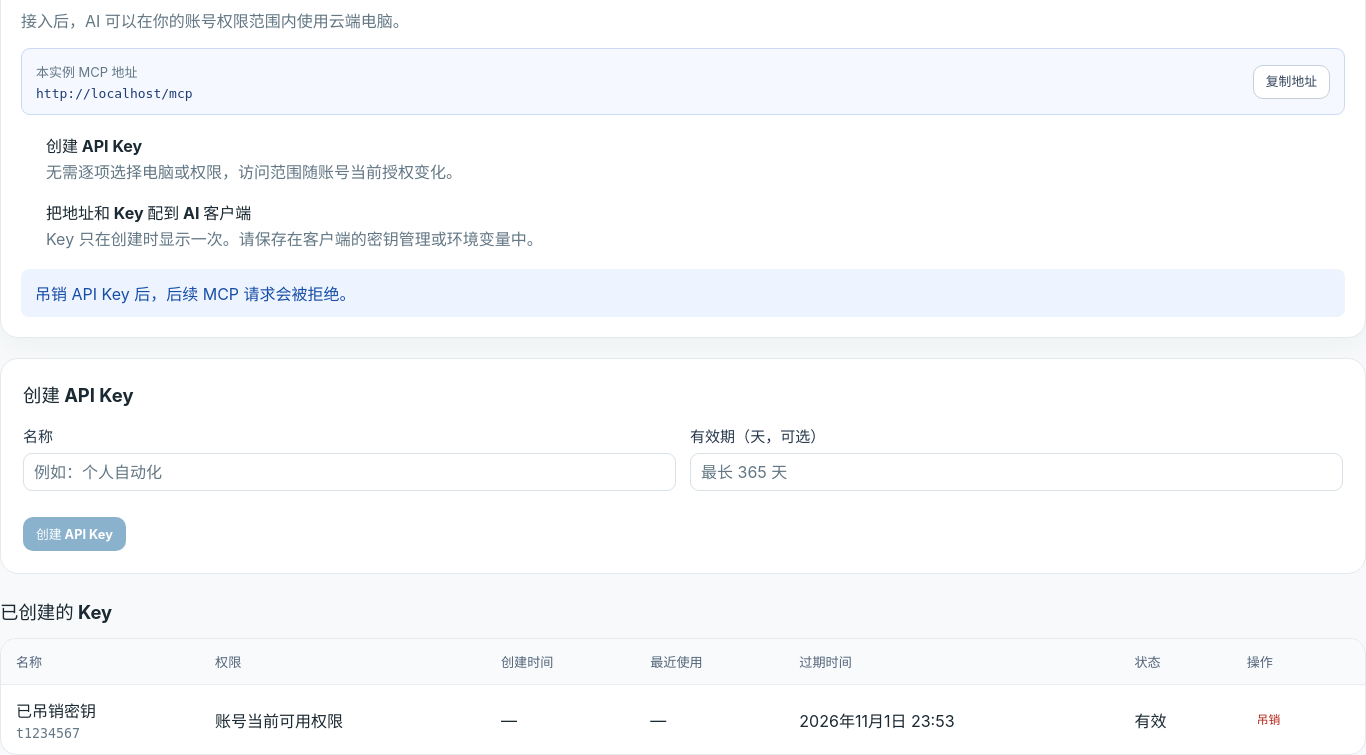
it: ApiKeys › shows revoked state and explains that already-issued external actions may finish
(page scrolled)
Click the button with aria-label "吊销 API Key 已吊销密钥".
click(1268, 720)  # box x1=1247 y1=706 x2=1290 y2=734
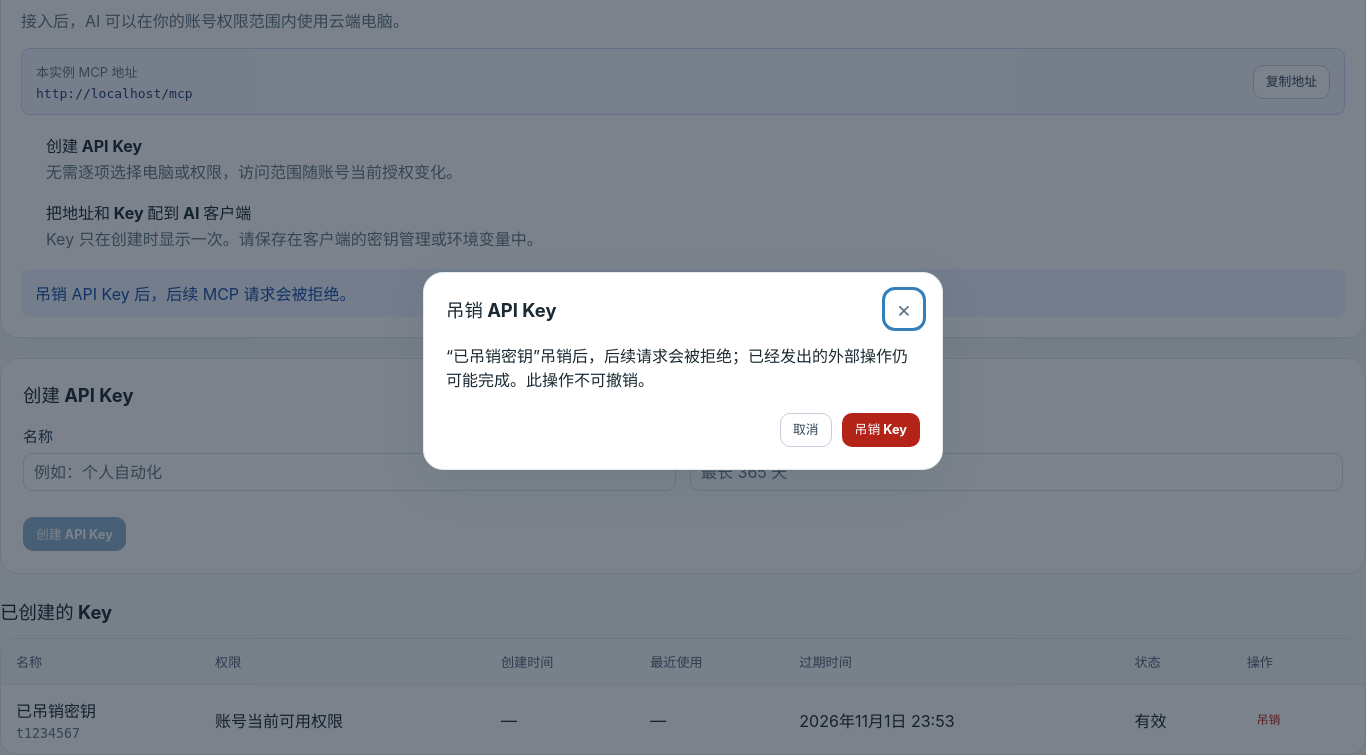
Expected: the text "“已吊销密钥”吊销后，后续请求会被拒绝；已经发出的外部操作仍可能完成。此操作不可撤销。" is shown, x1=446 y1=343 x2=920 y2=391
Click the button "吊销 Key".
click(881, 430)  # box x1=842 y1=413 x2=920 y2=447
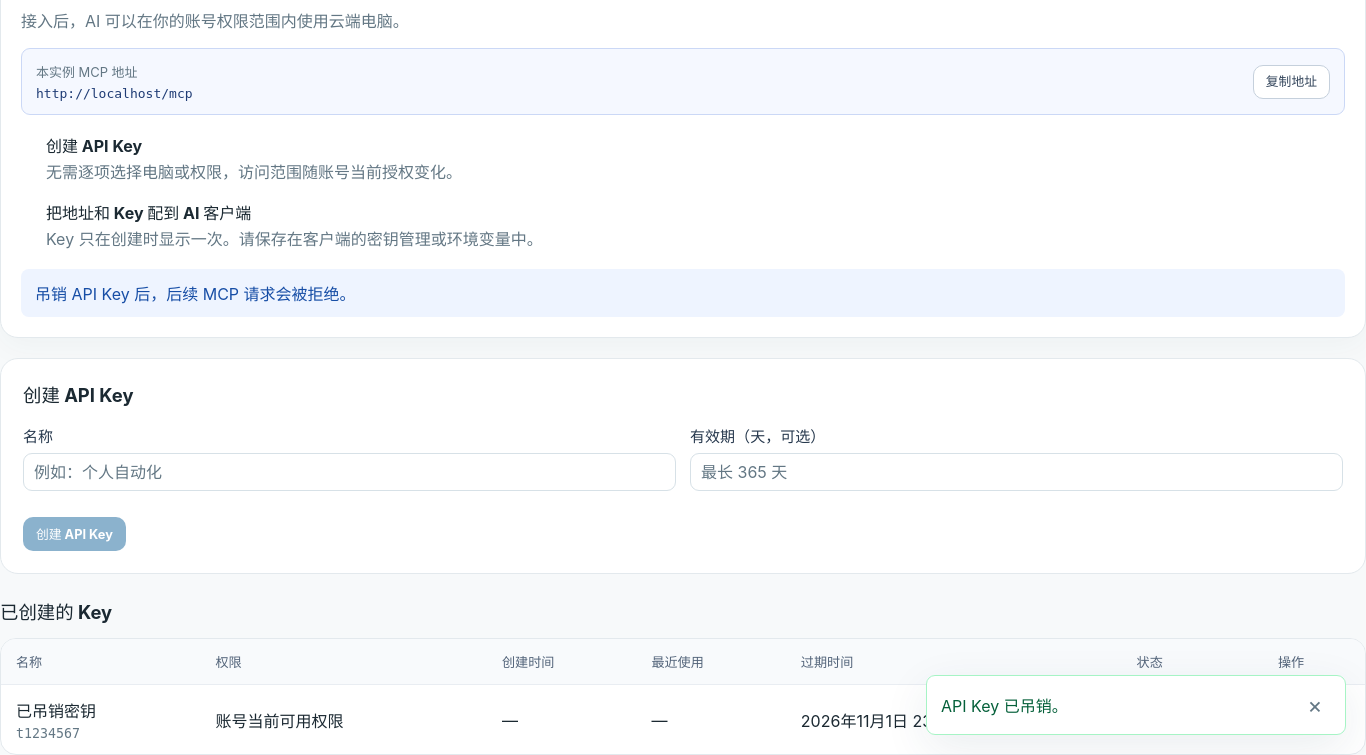
Expected: the text "t1234567" is shown, x1=16 y1=726 x2=80 y2=741
Expected: the text "已吊销" is shown, x1=1122 y1=685 x2=1263 y2=754
